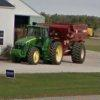Tractor: (9, 15, 100, 72)
